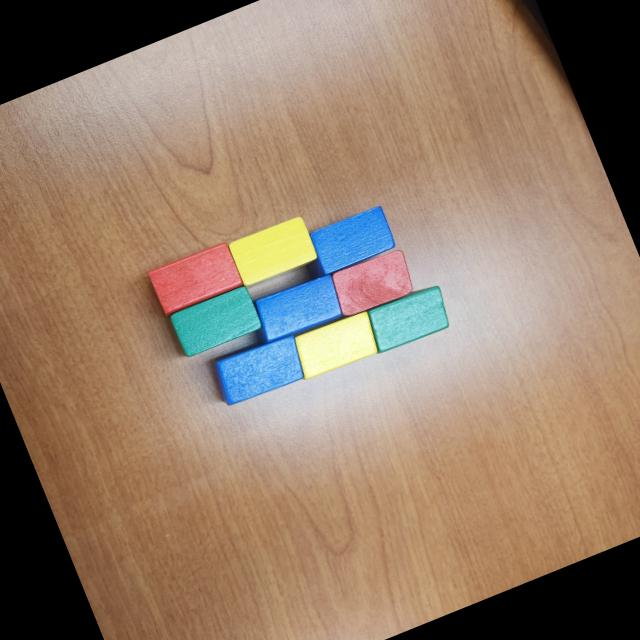blue: (206, 326, 312, 409), (241, 270, 347, 351), (308, 202, 400, 276)
green: (168, 284, 266, 359), (364, 280, 456, 354)
red: (146, 238, 246, 318), (326, 244, 418, 320)
yellow: (226, 214, 318, 288), (289, 309, 382, 381)
